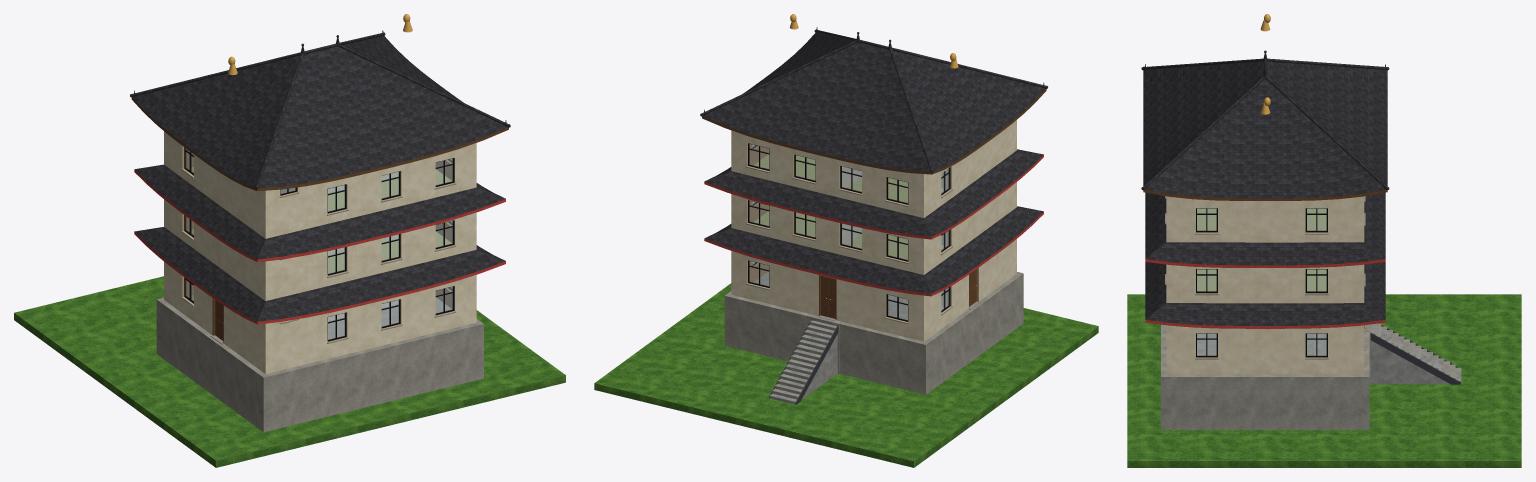
File: b_japanese_castle.gltf
The picture shows the model from 3 angles, left to right: view 1: azimuth 30°, elevation 25°; view 2: azimuth 150°, elevation 25°; view 3: azimuth 270°, elevation 25°; orthographic projection. The views are drawn at different scales.
Visible parts, largest first — view 1: S_japanese_castle; view 2: S_japanese_castle; view 3: S_japanese_castle.
Part boxes in pixels (x1=…): S_japanese_castle: x1=14, y1=14, x2=565, y2=467; S_japanese_castle: x1=594, y1=14, x2=1098, y2=467; S_japanese_castle: x1=1127, y1=14, x2=1521, y2=467.
Bounding box in the file's own units: 20 × 18.43 × 20.
Materials: 19 (13 with a texture image).
